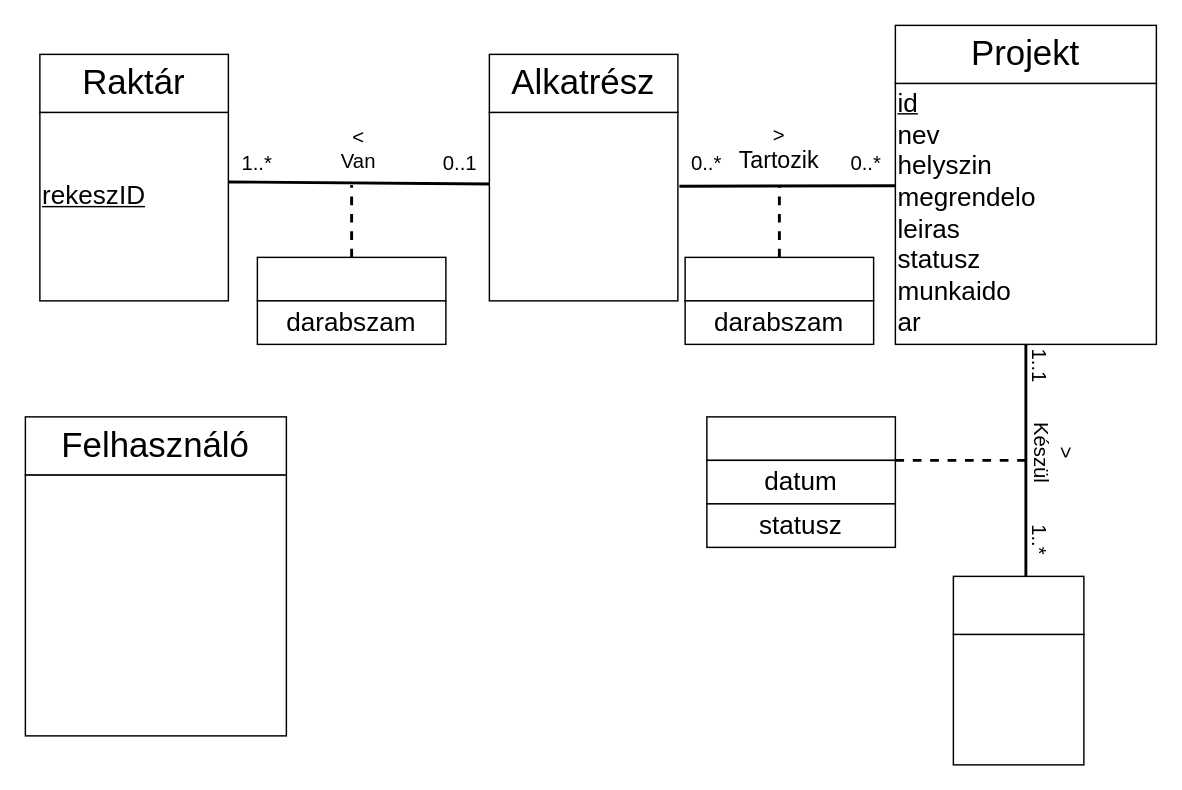
Some shapes in this 1182 by 790 pixel diagram are drawn without their labels. Each missing label, with the centre of its shape:
"id" goes at point 1018,699.
"id nev ar maxdb" goes at point 583,206.
"id nev szerepkor jelszohash two_factor_secret two_factor_enabled" goes at point 155,604.
"Napló" goes at point 1018,604.
